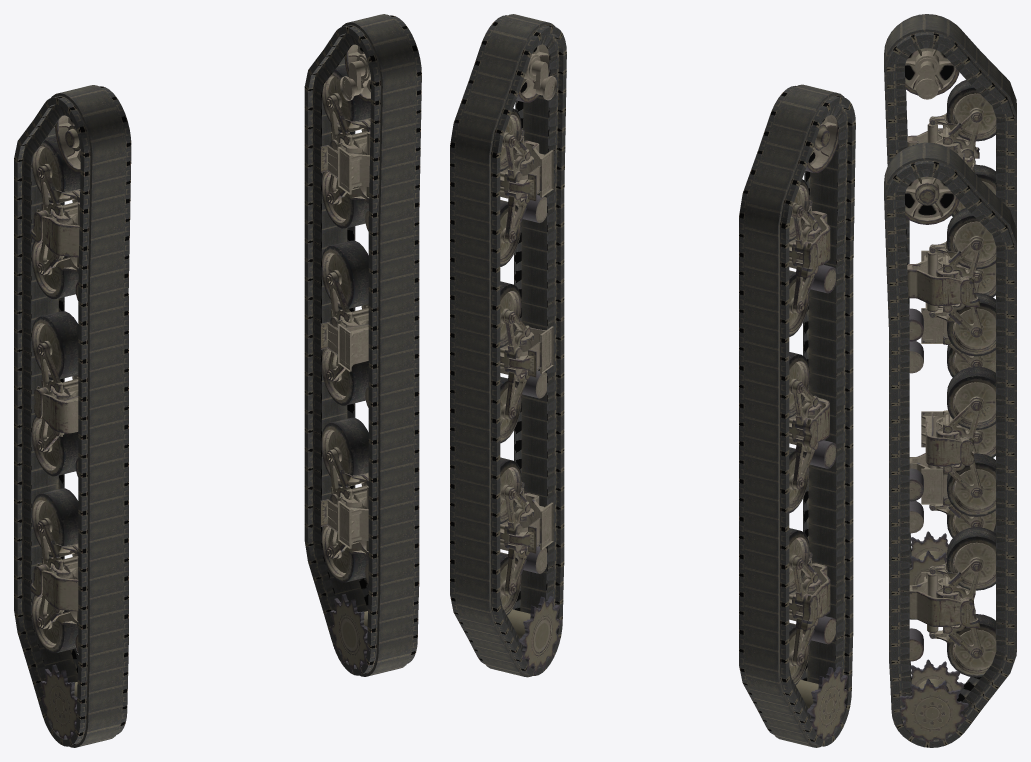
The model's file is Chassis.glb.
3 views of the same model, side by side, from view 1: azimuth 30°, elevation 25°; view 2: azimuth 150°, elevation 25°; view 3: azimuth 270°, elevation 25° (orthographic). The views are drawn at different scales.
Parts seen in each view (by area): view 1: set_1_group_0, set_0_group_0, set_3_group_0, set_2_group_0; view 2: set_1_group_0, set_0_group_0, set_3_group_0, set_2_group_0; view 3: set_3_group_0, set_0_group_0, set_2_group_0, set_1_group_0.
Part boxes in pixels (bbox=[...]): set_1_group_0: bbox=[14, 85, 131, 747]; set_0_group_0: bbox=[304, 14, 421, 676]; set_3_group_0: bbox=[320, 44, 371, 673]; set_2_group_0: bbox=[30, 115, 80, 739]; set_1_group_0: bbox=[739, 84, 855, 747]; set_0_group_0: bbox=[450, 14, 566, 677]; set_3_group_0: bbox=[482, 44, 562, 675]; set_2_group_0: bbox=[789, 115, 847, 739]; set_3_group_0: bbox=[900, 176, 996, 741]; set_0_group_0: bbox=[884, 142, 1016, 747]; set_2_group_0: bbox=[905, 48, 996, 584]; set_1_group_0: bbox=[884, 14, 1016, 567].
Size of the model in its own units: 3.08 by 5.54 by 1.13.
4 materials, 4 textured.
